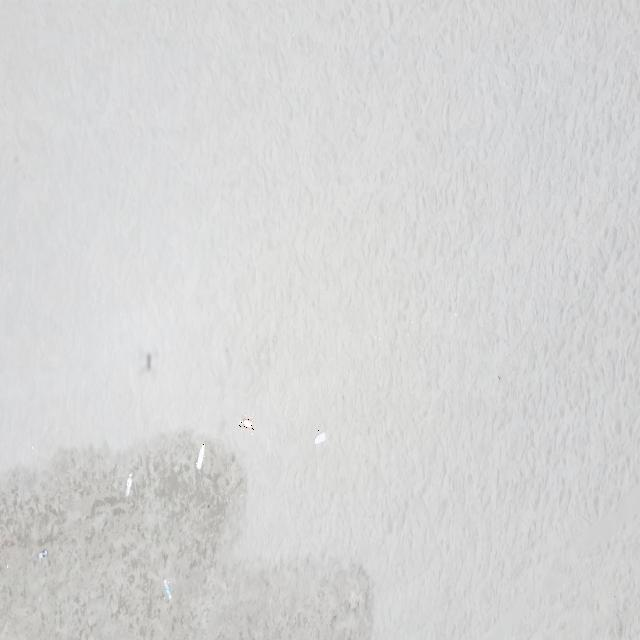plastic-bottle: (195, 441, 206, 471), (238, 416, 254, 432), (162, 576, 172, 599), (313, 430, 327, 446), (124, 473, 132, 497), (37, 550, 48, 562)
